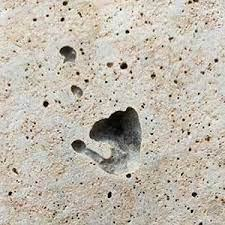Spalling: (1, 1, 225, 225), (69, 106, 144, 176)
